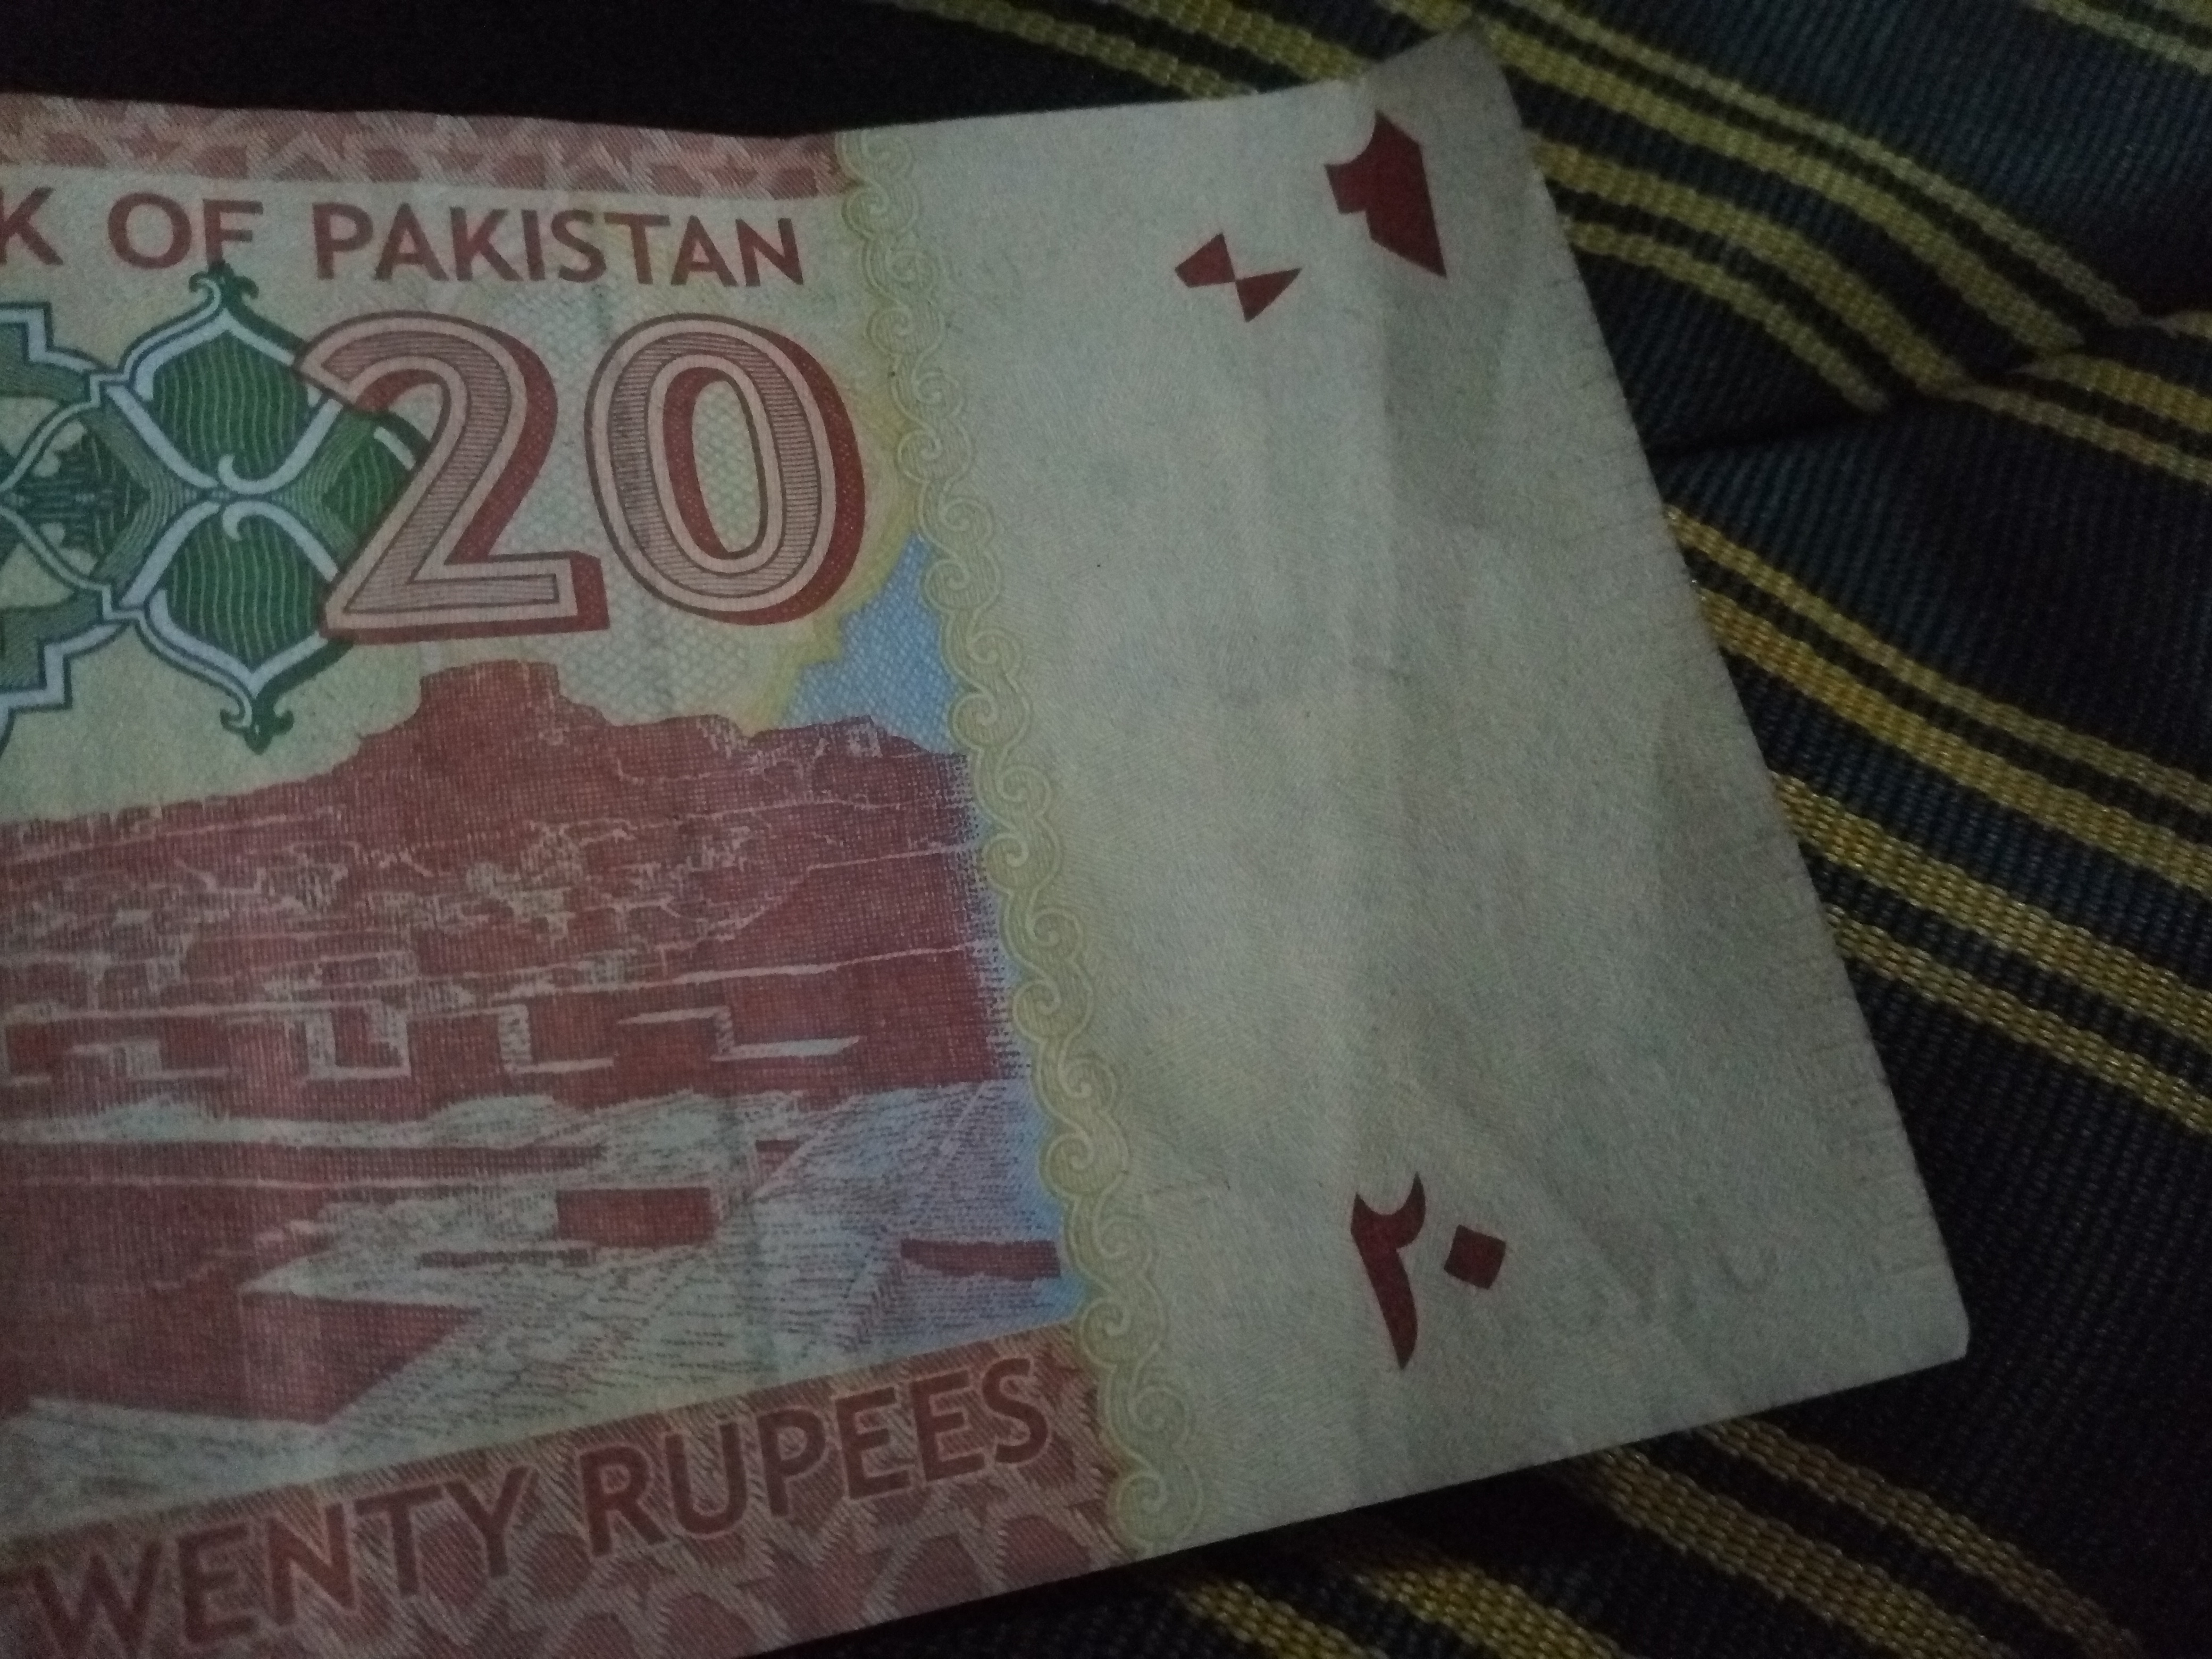20 rupee: (47, 49, 2010, 1635)
